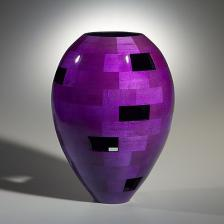purple: (52, 32, 175, 204)
